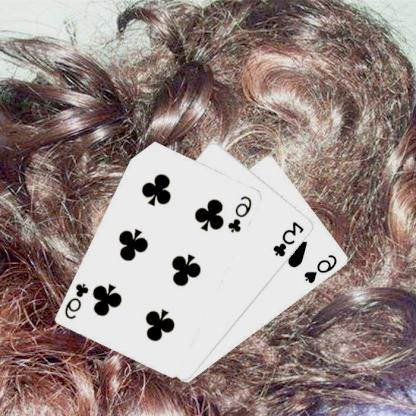3C: (272, 218, 308, 258)
6C: (227, 193, 256, 234), (64, 280, 92, 320)
6S: (303, 251, 341, 285)
